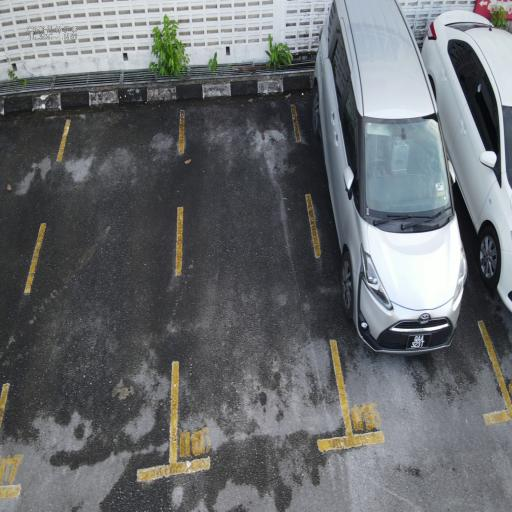Empty: (165, 94, 361, 480)
